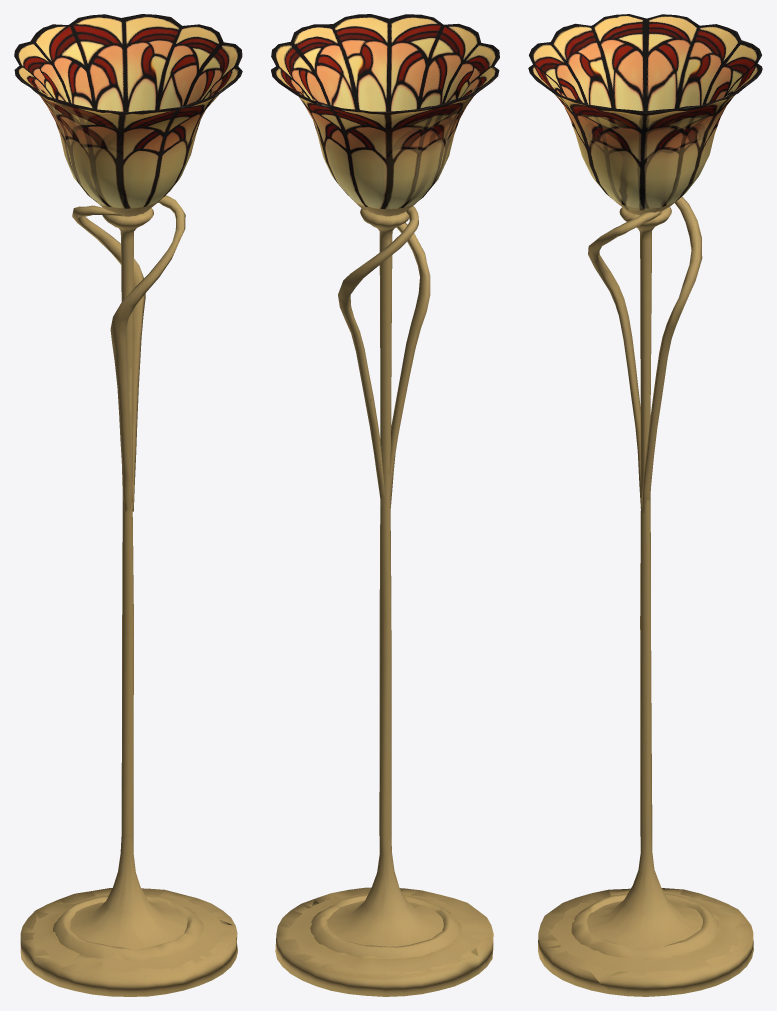
The model's file is floor-lamp.glb.
3 views of the same model, side by side, from view 1: azimuth 30°, elevation 25°; view 2: azimuth 150°, elevation 25°; view 3: azimuth 270°, elevation 25° (orthographic).
Size of the model in its own units: 0.2352 by 1 by 0.2393.
Materials: 1 (1 with a texture image).
